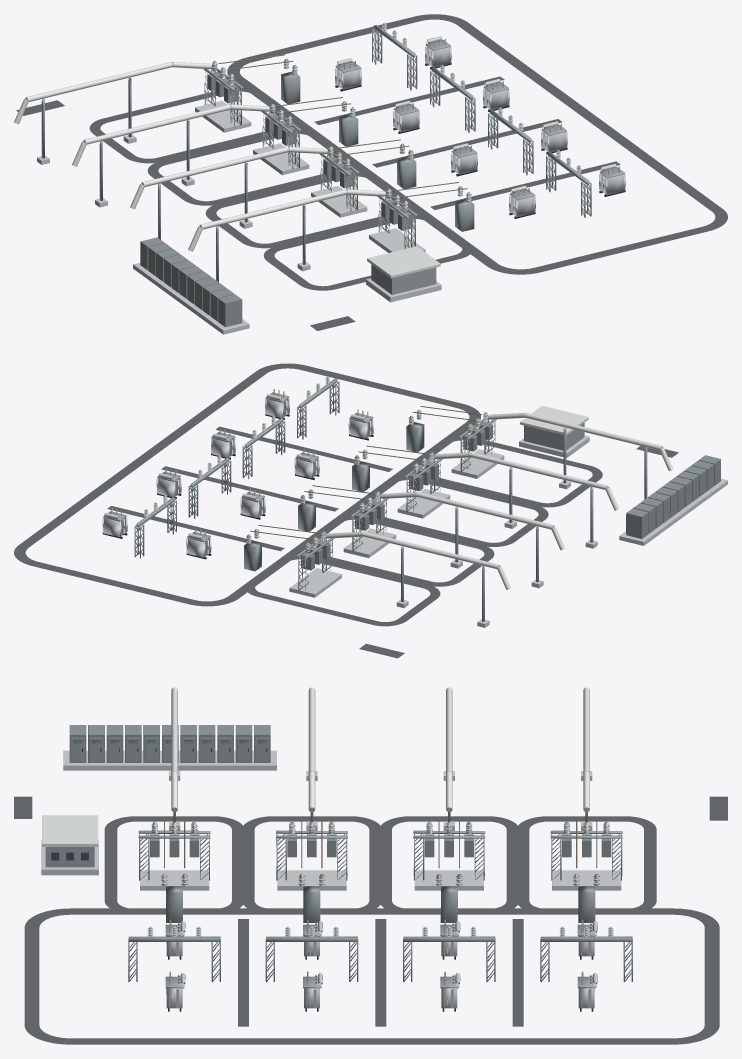
File: campus_gpp.glb
3 renders of one model, top to bottom at view 1: azimuth 30°, elevation 25°; view 2: azimuth 150°, elevation 25°; view 3: azimuth 270°, elevation 25°, orthographic. The views are drawn at different scales.
Visible parts, largest first — view 1: Ячейка высокого напряжения 1, Подстанция | технологические проезды, SUB-TX-01, Подстанция | служебный павильон, Промежуточный портал 1, Распределительное устройство | ряды шкафов; view 2: Ячейка высокого напряжения 1, Подстанция | технологические проезды, SUB-TX-01, Промежуточный портал 1, Распределительное устройство | ряды шкафов, Подстанция | служебный павильон; view 3: Подстанция | технологические проезды, Ячейка высокого напряжения 1, Промежуточный портал 1, Подстанция | служебный павильон, SUB-TX-01, Распределительное устройство | ряды шкафов.
Boxes of the visible parts, x1=… form: Ячейка высокого напряжения 1: x1=14, y1=54, x2=474, y2=281; Подстанция | технологические проезды: x1=16, y1=14, x2=727, y2=330; SUB-TX-01: x1=335, y1=36, x2=625, y2=218; Подстанция | служебный павильон: x1=133, y1=246, x2=441, y2=334; Промежуточный портал 1: x1=372, y1=22, x2=591, y2=217; Распределительное устройство | ряды шкафов: x1=140, y1=237, x2=242, y2=327; Ячейка высокого напряжения 1: x1=244, y1=406, x2=672, y2=627; Подстанция | технологические проезды: x1=14, y1=363, x2=678, y2=658; SUB-TX-01: x1=102, y1=389, x2=373, y2=559; Промежуточный портал 1: x1=134, y1=376, x2=626, y2=558; Распределительное устройство | ряды шкафов: x1=626, y1=455, x2=720, y2=538; Подстанция | служебный павильон: x1=519, y1=405, x2=727, y2=545; Подстанция | технологические проезды: x1=14, y1=796, x2=727, y2=1044; Ячейка высокого напряжения 1: x1=138, y1=687, x2=622, y2=922; Промежуточный портал 1: x1=71, y1=737, x2=632, y2=982; Подстанция | служебный павильон: x1=41, y1=750, x2=276, y2=875; SUB-TX-01: x1=165, y1=919, x2=597, y2=1011; Распределительное устройство | ряды шкафов: x1=69, y1=725, x2=270, y2=762.
Bounding box in the file's own units: 313 × 41.44 × 325.
